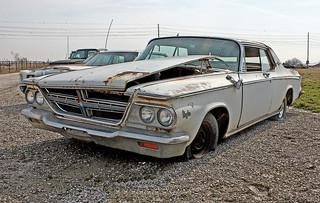bonnet-dent: (53, 45, 210, 80)
front-bumper-dent: (37, 85, 159, 143)
